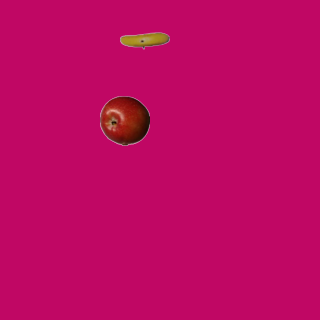Apple Braeburn: (99, 95, 149, 145)
Banana: (119, 15, 169, 65)
